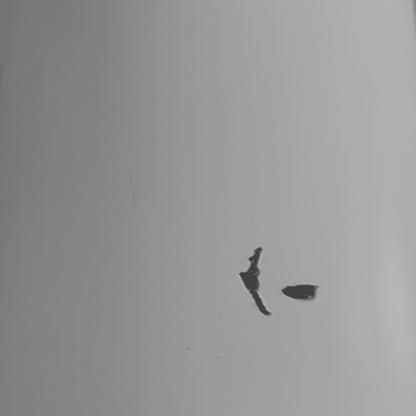kongdong: (236, 245, 275, 318), (278, 282, 321, 304)
